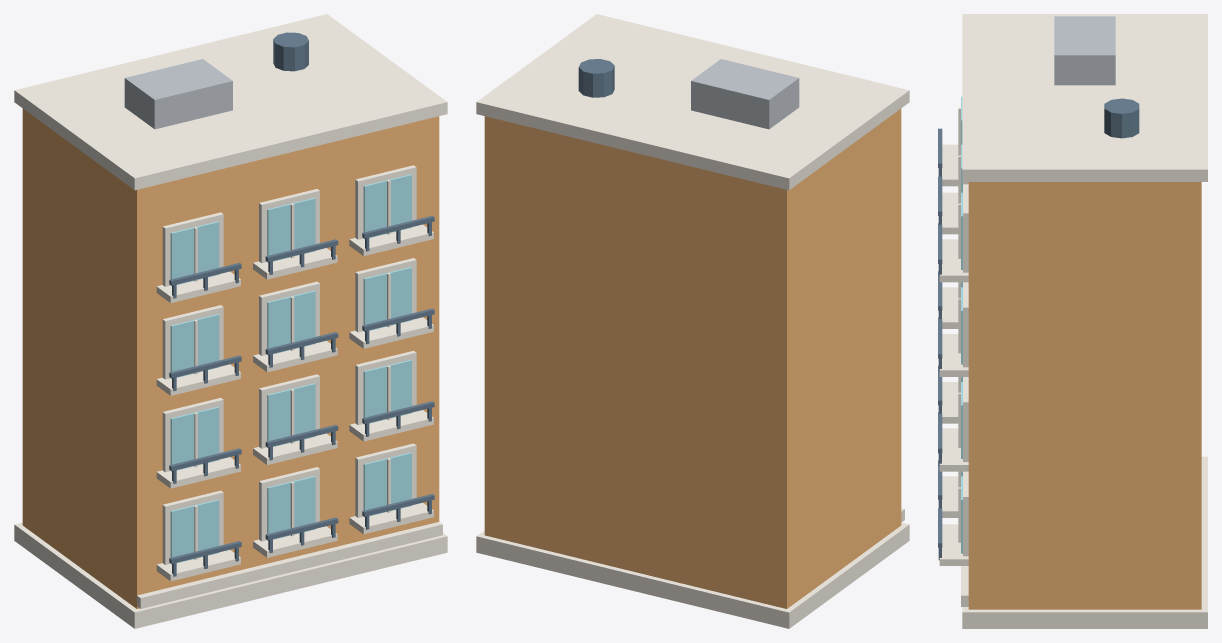
Rendered from 08_apartment_wide.glb.
3 views of the same model, side by side, from view 1: azimuth 30°, elevation 25°; view 2: azimuth 150°, elevation 25°; view 3: azimuth 270°, elevation 25° (orthographic).
Visible parts, largest first — view 1: 08_apartment_wide; view 2: 08_apartment_wide; view 3: 08_apartment_wide.
Part boxes in pixels (x1=…): 08_apartment_wide: x1=14, y1=14, x2=447, y2=628; 08_apartment_wide: x1=476, y1=14, x2=909, y2=628; 08_apartment_wide: x1=938, y1=14, x2=1207, y2=628.
Bounding box in the file's own units: 6 × 8.8 × 4.39.
